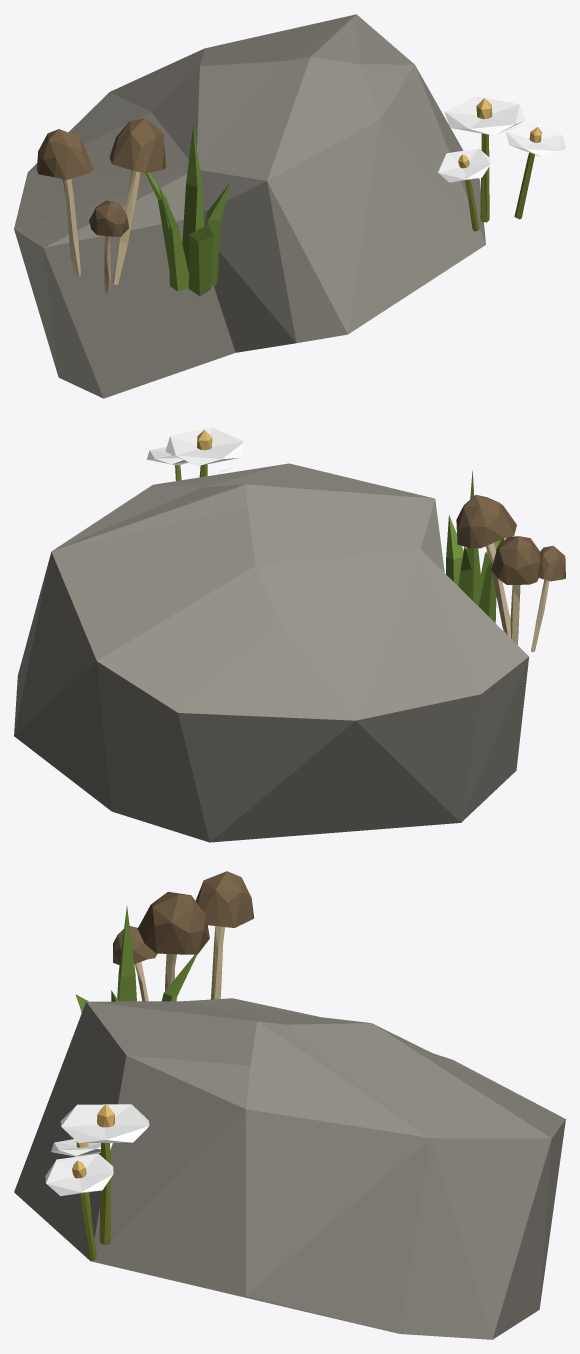
Rendered from Rock_09.fbx.
3 renders of one model, top to bottom at view 1: azimuth 30°, elevation 25°; view 2: azimuth 150°, elevation 25°; view 3: azimuth 270°, elevation 25°, orthographic. The views are drawn at different scales.
Visible parts, largest first — view 1: Rock_09; view 2: Rock_09; view 3: Rock_09.
Part boxes in pixels (x1,y1,x2,y2): Rock_09: (14,14,565,398); Rock_09: (14,427,565,842); Rock_09: (14,871,565,1339).
Size of the model in its own units: 66.14 by 40.22 by 60.22.
